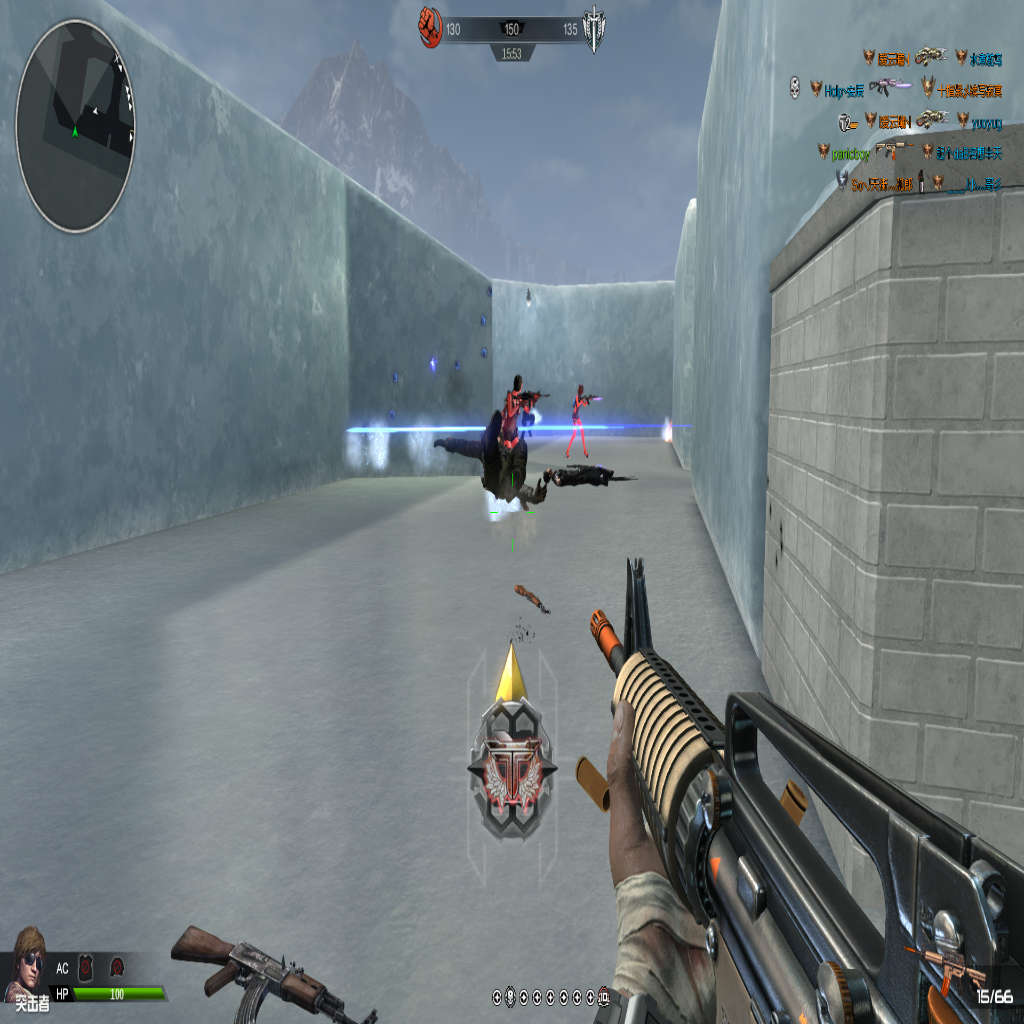ct: (486, 376, 541, 503), (568, 382, 598, 459)
